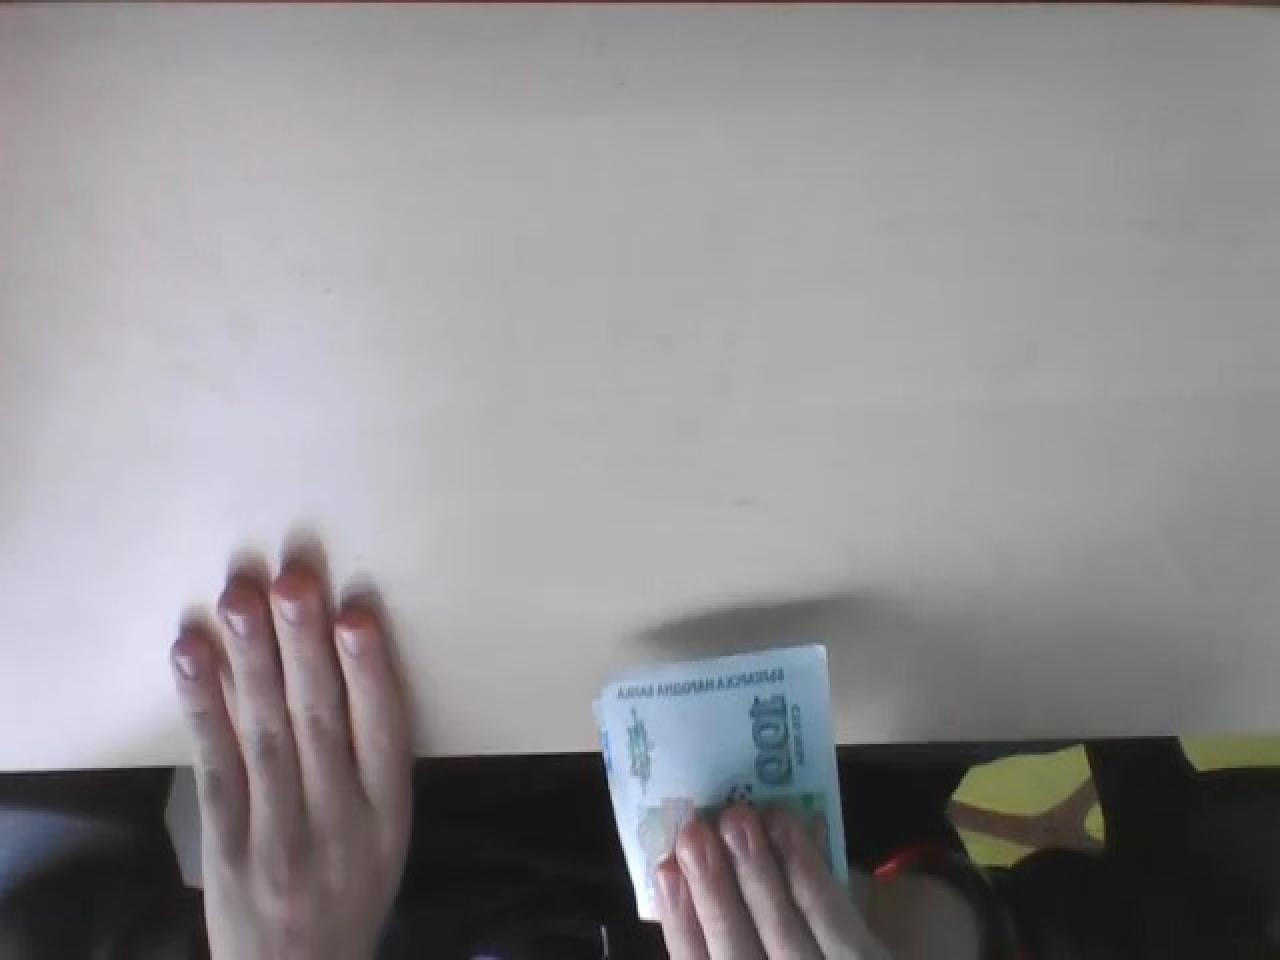100leva: (594, 642, 846, 955)
